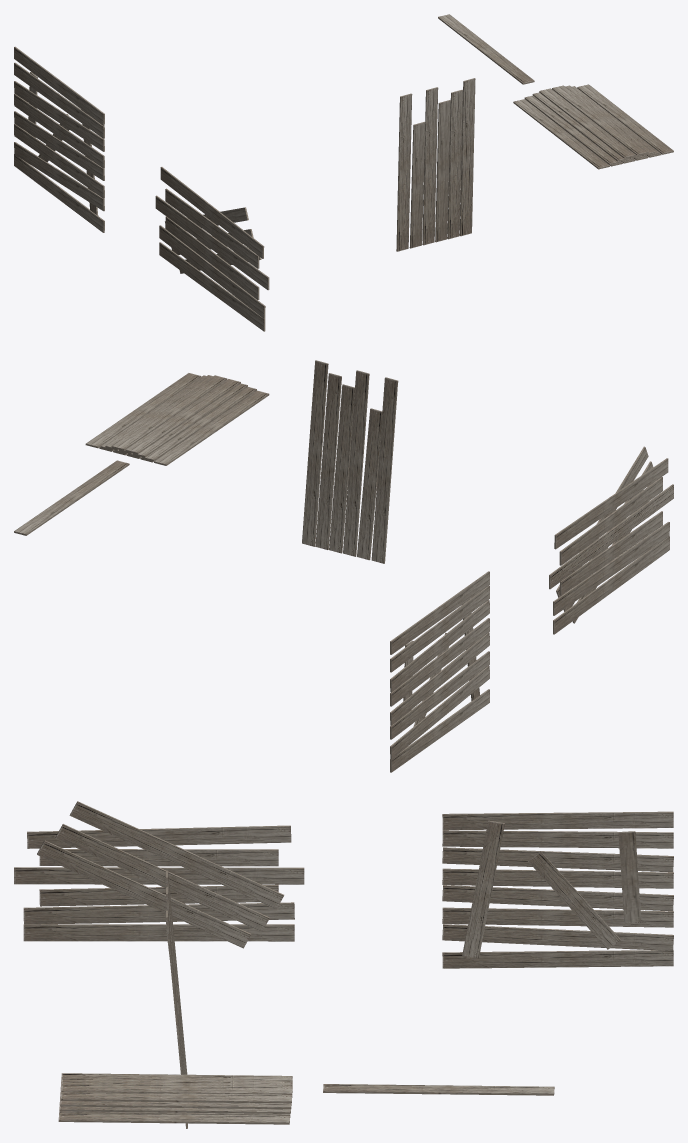
File: BARIKADA TAHTA.fbx
3 renders of one model, top to bottom at view 1: azimuth 30°, elevation 25°; view 2: azimuth 150°, elevation 25°; view 3: azimuth 270°, elevation 25°, orthographic. The views are drawn at different scales.
Parts seen in each view (by area): view 1: barikada.020, barikada.016, barikada.005, barikada.029, barikada.001; view 2: barikada.020, barikada.016, barikada.005, barikada.029, barikada.001; view 3: barikada.016, barikada.005, barikada.029, barikada.001, barikada.020.
Part boxes in pixels (x1=…): barikada.020: x1=396, y1=78, x2=475, y2=251; barikada.016: x1=14, y1=46, x2=104, y2=232; barikada.005: x1=155, y1=167, x2=269, y2=331; barikada.029: x1=513, y1=84, x2=673, y2=169; barikada.001: x1=438, y1=14, x2=534, y2=84; barikada.020: x1=302, y1=360, x2=398, y2=563; barikada.016: x1=390, y1=571, x2=489, y2=772; barikada.005: x1=549, y1=446, x2=673, y2=634; barikada.029: x1=85, y1=373, x2=269, y2=465; barikada.001: x1=14, y1=460, x2=129, y2=535; barikada.016: x1=442, y1=811, x2=673, y2=968; barikada.005: x1=14, y1=801, x2=304, y2=948; barikada.029: x1=58, y1=1073, x2=292, y2=1124; barikada.001: x1=323, y1=1084, x2=554, y2=1095; barikada.020: x1=166, y1=870, x2=187, y2=1128.
Size of the model in its own units: 5291 by 1989 by 5470.
1 material, 1 textured.
